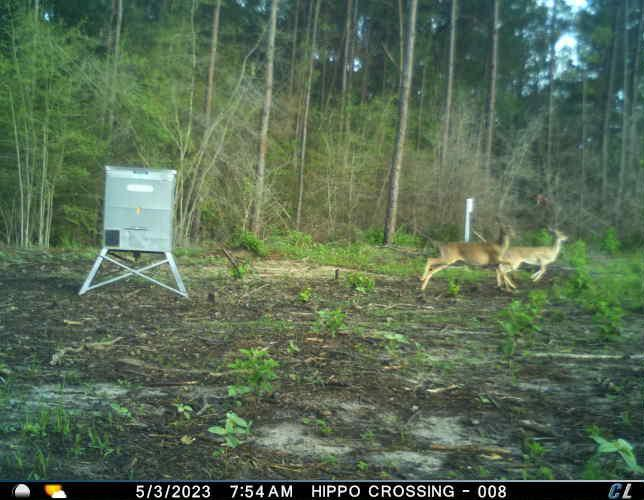Deer: (419, 218, 522, 297), (497, 225, 572, 281)
